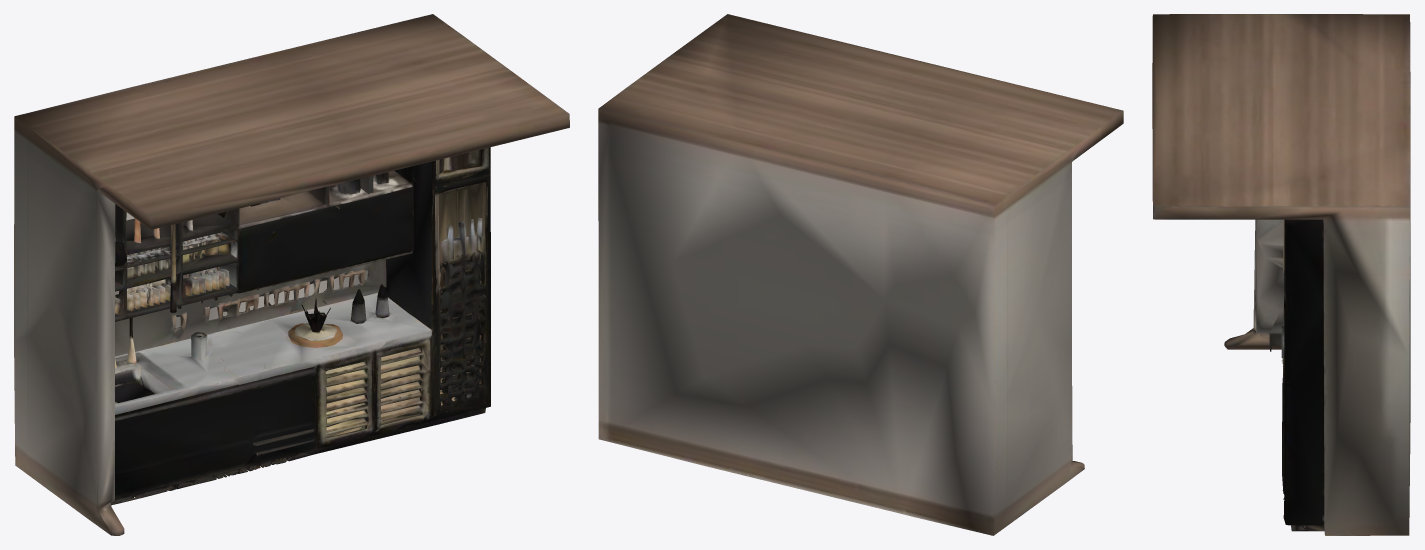
File: uYAJ2FSWCZvgi8FMQjQrP.glb
The picture shows the model from 3 angles, left to right: view 1: azimuth 30°, elevation 25°; view 2: azimuth 150°, elevation 25°; view 3: azimuth 270°, elevation 25°; orthographic projection. The views are drawn at different scales.
Parts seen in each view (by area): view 1: geometry_0; view 2: geometry_0; view 3: geometry_0.
Boxes of the visible parts, x1,y1,x2,y2 form: geometry_0: (14, 14, 569, 535); geometry_0: (598, 14, 1123, 535); geometry_0: (1152, 14, 1410, 535).
Size of the model in its own units: 1 by 0.8022 by 0.569.
1 material, 1 textured.
